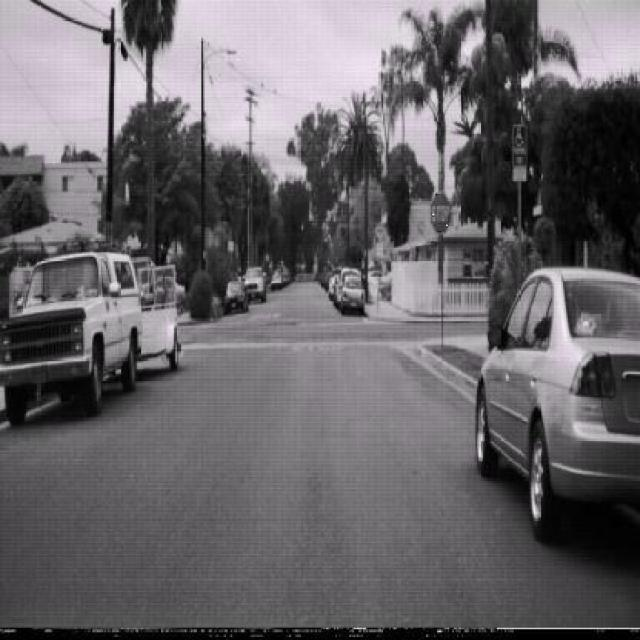stop: (429, 191, 451, 236)
